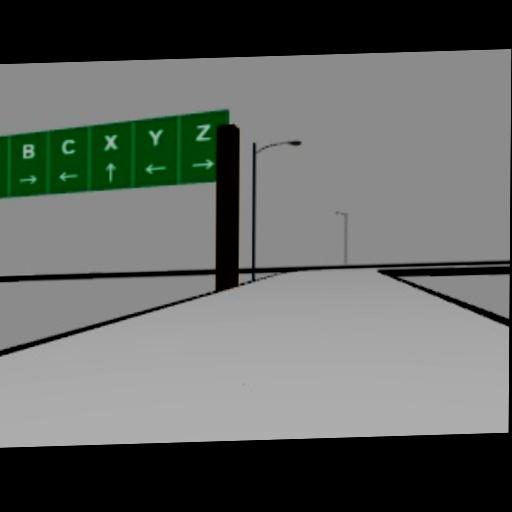B: (21, 142, 35, 158)
C: (61, 138, 75, 154)
Left: (143, 161, 167, 174), (57, 171, 78, 181)
Right: (191, 158, 215, 170), (17, 174, 38, 184)
Straight: (105, 161, 117, 182)
X: (103, 133, 119, 150)
Y: (146, 127, 164, 146)
Z: (194, 123, 212, 141)
